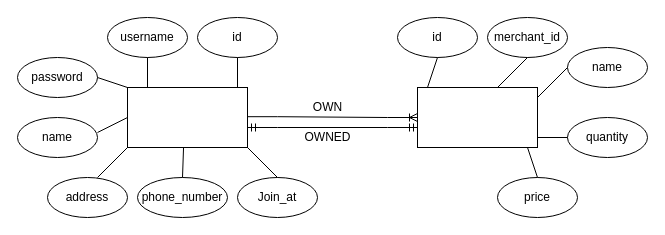
This 665x235 diagram has some shape labels left out. Here are the shapes that lost their labels. From the top down, the box of each, then its label:
(126, 86, 248, 148): Merchant
(416, 86, 538, 148): Products
